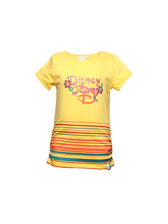clothoes: (30, 50, 134, 174)
